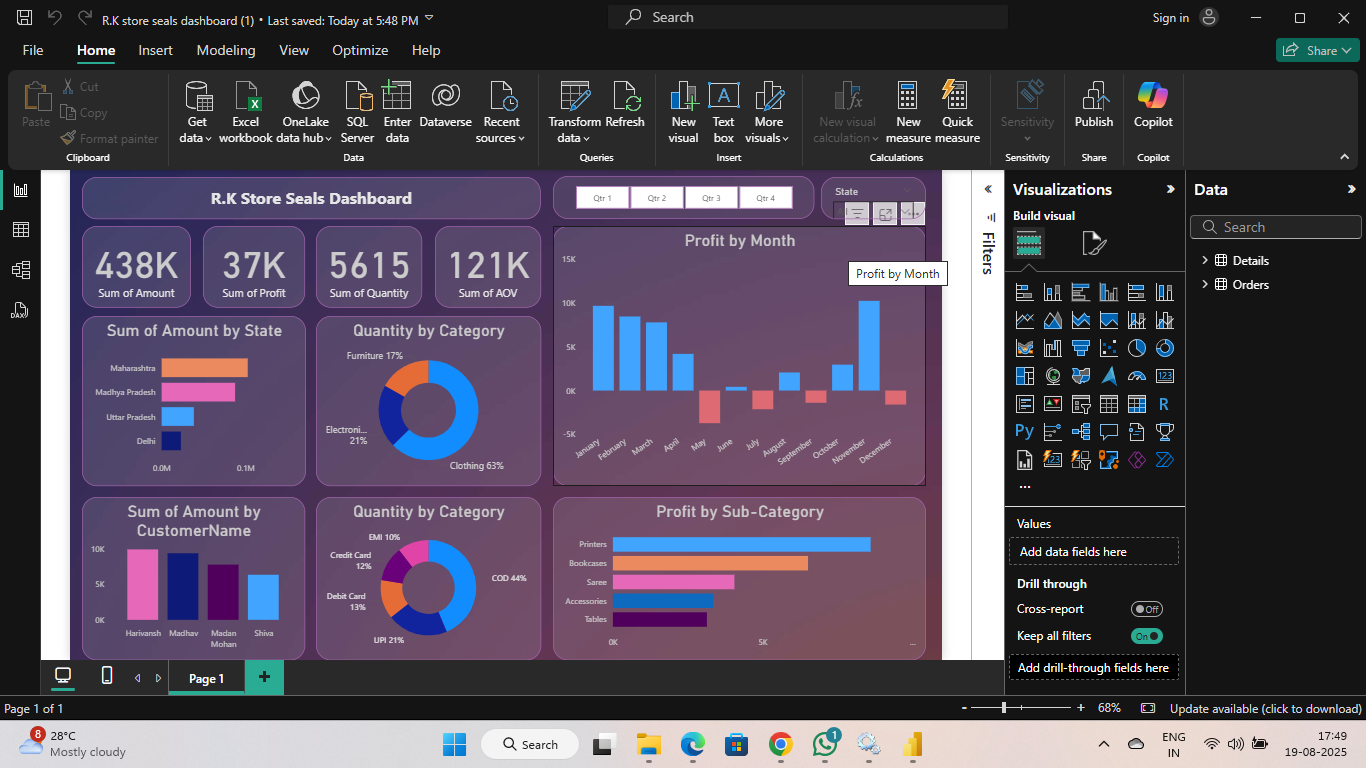

What the dashboard file says about the page in this screenshot:
{"tool":"powerbi","page":{"name":"Page 1","canvas":[1280,720],"ordinal":0},"visuals":[{"type":"textbox","box":[17.6,10.3,674.4,61.7],"z":0},{"type":"clusteredColumnChart","title":"Profit by Month","fields":{"Y":["Details.Profit"],"Category":["Orders.Order Date.Variation.Date Hierarchy.Month"]},"box":[709.7,82.3,548.1,382],"z":1000},{"type":"barChart","title":"Profit by Sub-Category","fields":{"Category":["Details.Sub-Category"],"Y":["Details.Profit"]},"box":[709.7,480.5,548.1,239.5],"z":2000},{"type":"donutChart","title":" Quantity by Category","fields":{"Category":["Details.Category"],"Y":["Details.Quantity"]},"box":[361.5,214.5,330.6,249.8],"z":3000},{"type":"donutChart","title":" Quantity by Category","fields":{"Y":["Details.Quantity"],"Category":["Details.PaymentMode"]},"box":[361.5,480.5,330.6,239.5],"z":4000},{"type":"card","fields":{"Values":["Details.Amount"]},"box":[17.6,82.3,160.2,120.5],"z":5000},{"type":"card","fields":{"Values":["Details.Profit"]},"box":[195.4,82.3,149.9,120.5],"z":6000},{"type":"card","fields":{"Values":["Details.Quantity"]},"box":[361.5,82.3,155.8,120.5],"z":7000},{"type":"card","fields":{"Values":["Details.AOV"]},"box":[536.3,82.3,155.8,120.5],"z":8000},{"type":"barChart","title":"Sum of Amount by State","fields":{"Category":["Orders.State"],"Y":["Details.Amount"]},"box":[17.6,214.5,329.1,249.8],"z":9000},{"type":"columnChart","fields":{"Category":["Orders.CustomerName"],"Y":["Details.Amount"]},"box":[17.6,480.5,327.7,239.5],"z":10000},{"type":"slicer","fields":{"Values":["Orders.Order Date.Variation.Date Hierarchy.Quarter"]},"box":[709.7,8.8,383.5,63.2],"z":11000},{"type":"slicer","fields":{"Values":["Orders.State"]},"box":[1103.5,10.3,154.3,61.7],"z":12000}]}

Visuals, with their boxes on the page's 1280x720 design canvas (x1, y1, x2, y2). These are canvas units, not pixel positions in the 1366x768 screenshot, which may show the page scaled, cropped or inside an application window:
textbox: 18 10 692 72
"Profit by Month" clusteredColumnChart: 710 82 1258 464
"Profit by Sub-Category" barChart: 710 480 1258 720
" Quantity by Category" donutChart: 362 214 692 464
" Quantity by Category" donutChart: 362 480 692 720
card - Details.Amount: 18 82 178 203
card - Details.Profit: 195 82 345 203
card - Details.Quantity: 362 82 517 203
card - Details.AOV: 536 82 692 203
"Sum of Amount by State" barChart: 18 214 347 464
columnChart - Orders.CustomerName x Details.Amount: 18 480 345 720
slicer - Orders.Order Date.Variation.Date Hierarchy.Quarter: 710 9 1093 72
slicer - Orders.State: 1104 10 1258 72
